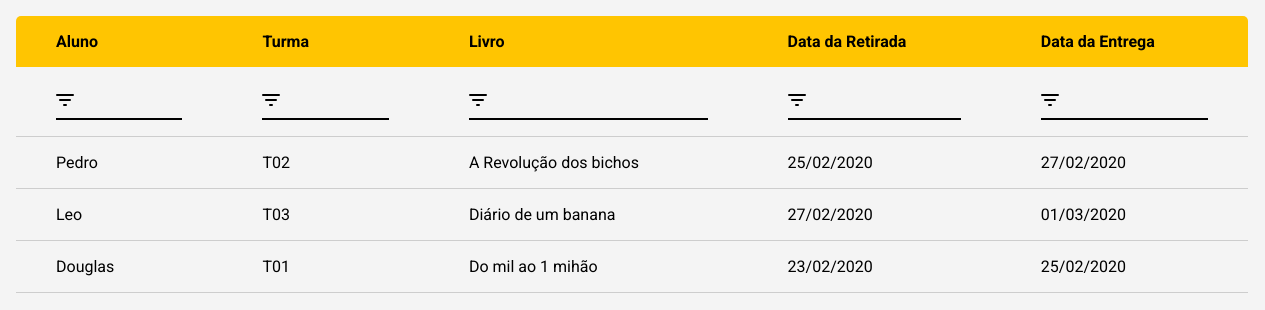
<HistoryLoans /> › should order the lines for classes to be in crescent order when the button is clicked and to be in reverse order if it clicked again
Check: the row with test id "loanLine" shows "T02", box [262,153,290,172]
Click the element with test id "sortClass" at (326, 102), box [262,83,389,120]
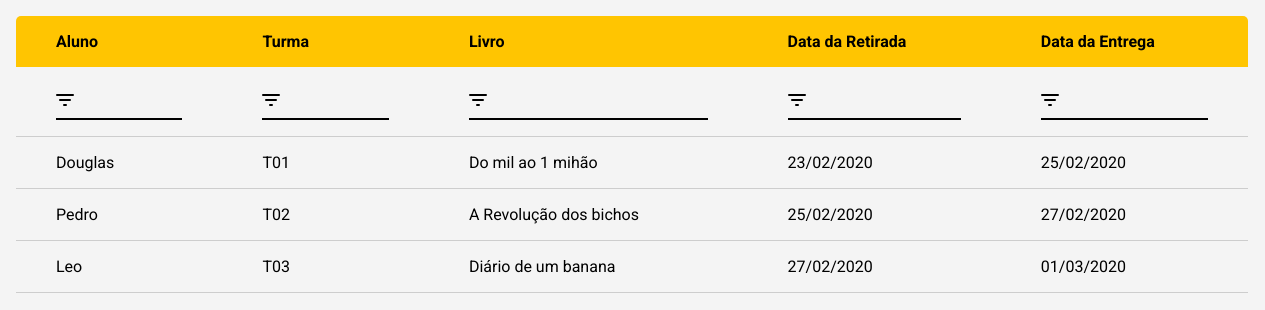
Check: the row with test id "loanLine" shows "T01", box [262,153,290,172]
Click the element with test id "sortClass" at (326, 102), box [262,83,389,120]
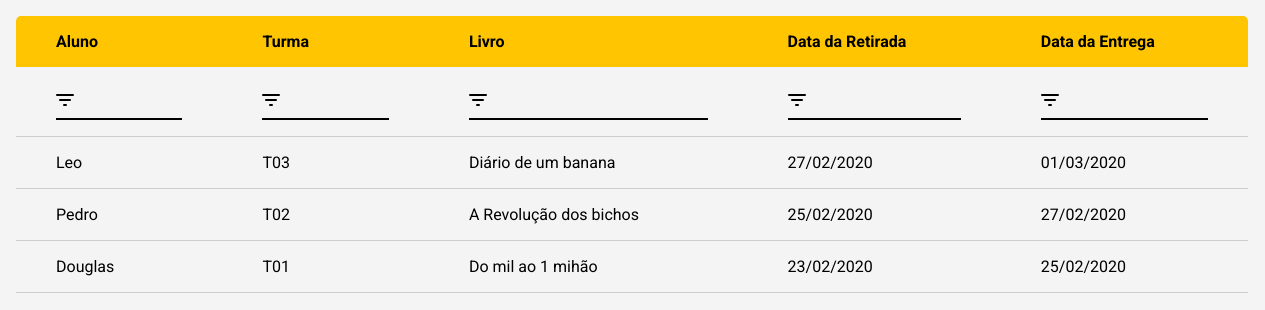
Check: the row with test id "loanLine" shows "T03", box [262,153,290,172]
